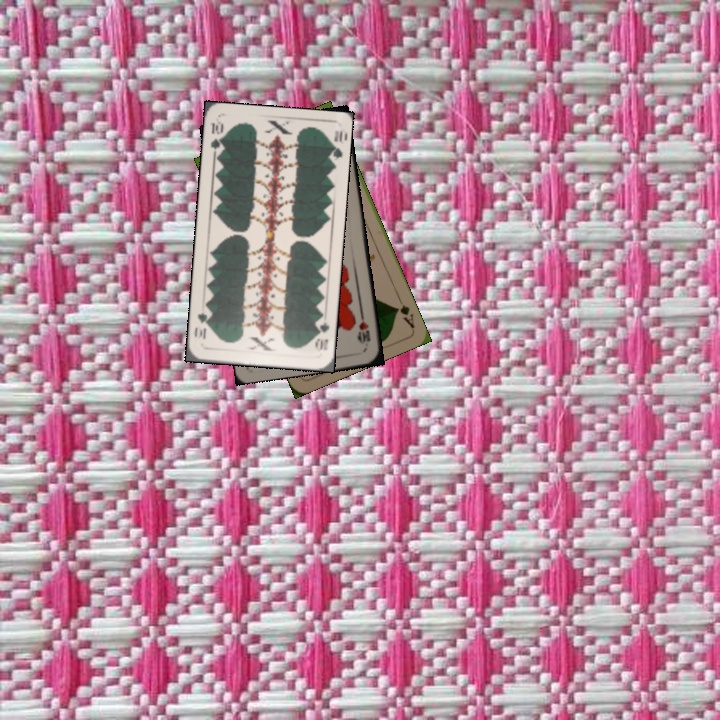G10: (206, 117, 226, 158), (311, 318, 332, 354)
GA: (392, 293, 417, 331)
H10: (355, 309, 373, 346)
